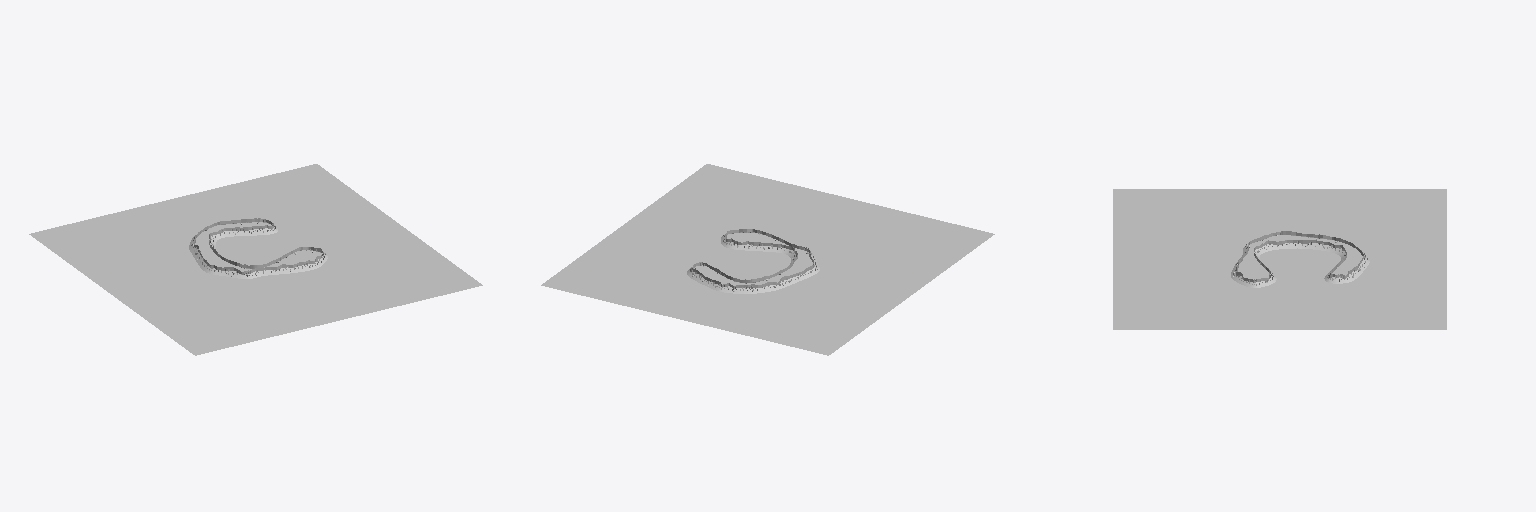
The picture shows the model from 3 angles: view 1: azimuth 30°, elevation 25°; view 2: azimuth 150°, elevation 25°; view 3: azimuth 270°, elevation 25°; orthographic projection.
Visible parts, largest first — view 1: Plane; view 2: Plane; view 3: Plane, Wall_05.
Part boxes in pixels (x1,y1,x2,y2): Plane: (29,164,482,355); Plane: (541,164,994,355); Plane: (1113,189,1446,329); Wall_05: (1263,240,1329,251).
Bounding box in the file's own units: 1400 × 34.84 × 1400.